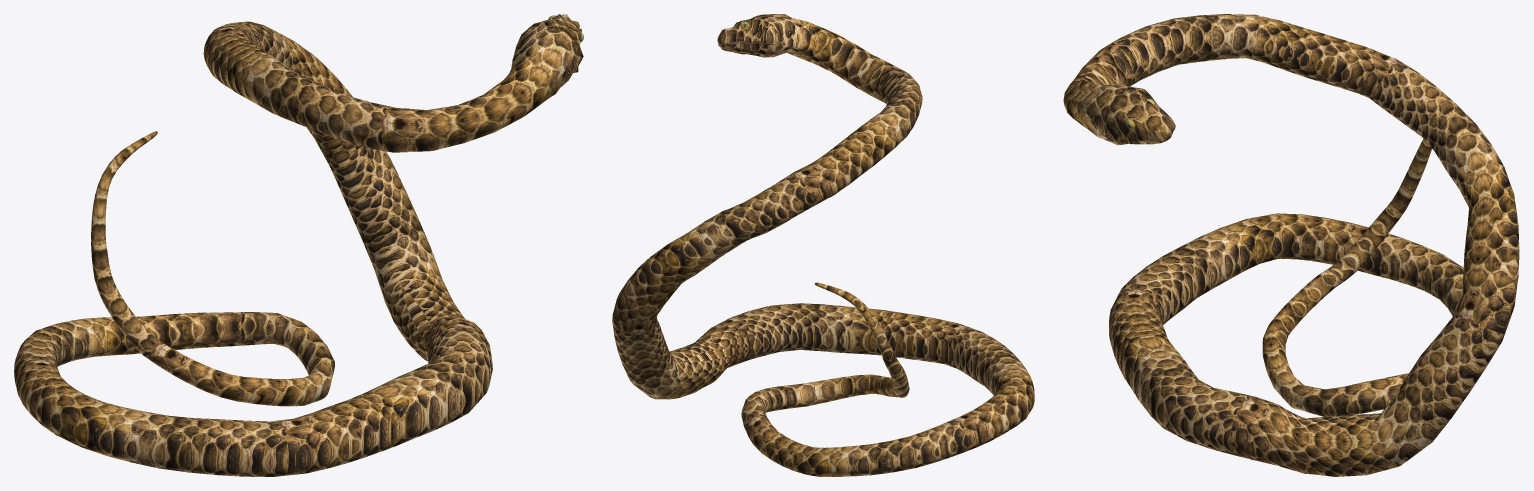
Rendered from snake.fbx.
The picture shows the model from 3 angles, left to right: view 1: azimuth 30°, elevation 25°; view 2: azimuth 150°, elevation 25°; view 3: azimuth 270°, elevation 25°; orthographic projection. The views are drawn at different scales.
Parts seen in each view (by area): view 1: Object_8; view 2: Object_8; view 3: Object_8.
Boxes of the visible parts, x1,y1,x2,y2 form: Object_8: (14,14,583,476); Object_8: (612,14,1034,476); Object_8: (1063,14,1519,476).
Size of the model in its own units: 316 by 265 by 282.
Materials: 3 (2 with a texture image).
